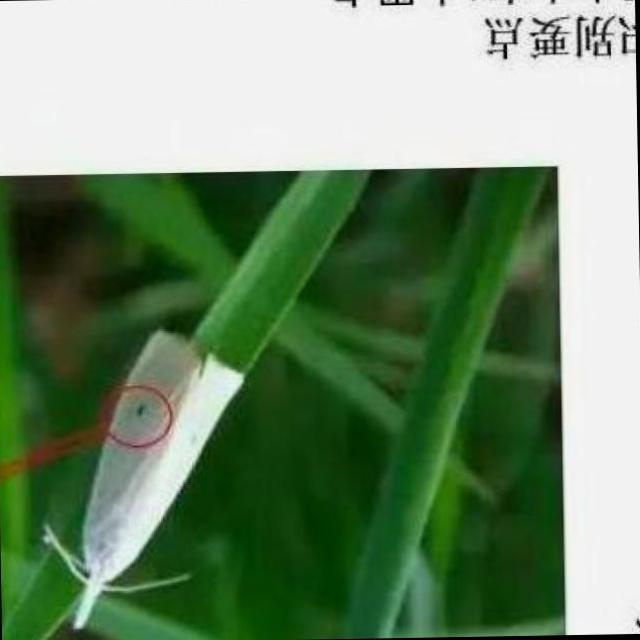stem borer: (44, 331, 245, 629)
